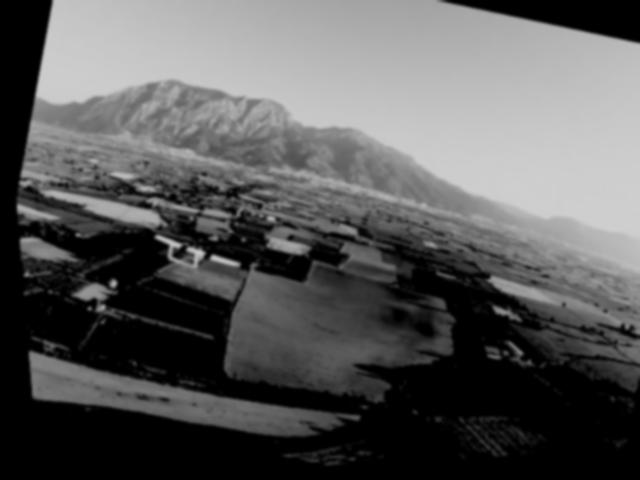hedef: (142, 226, 246, 292)
